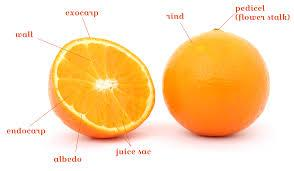orange: (148, 21, 271, 142), (47, 30, 156, 135)
